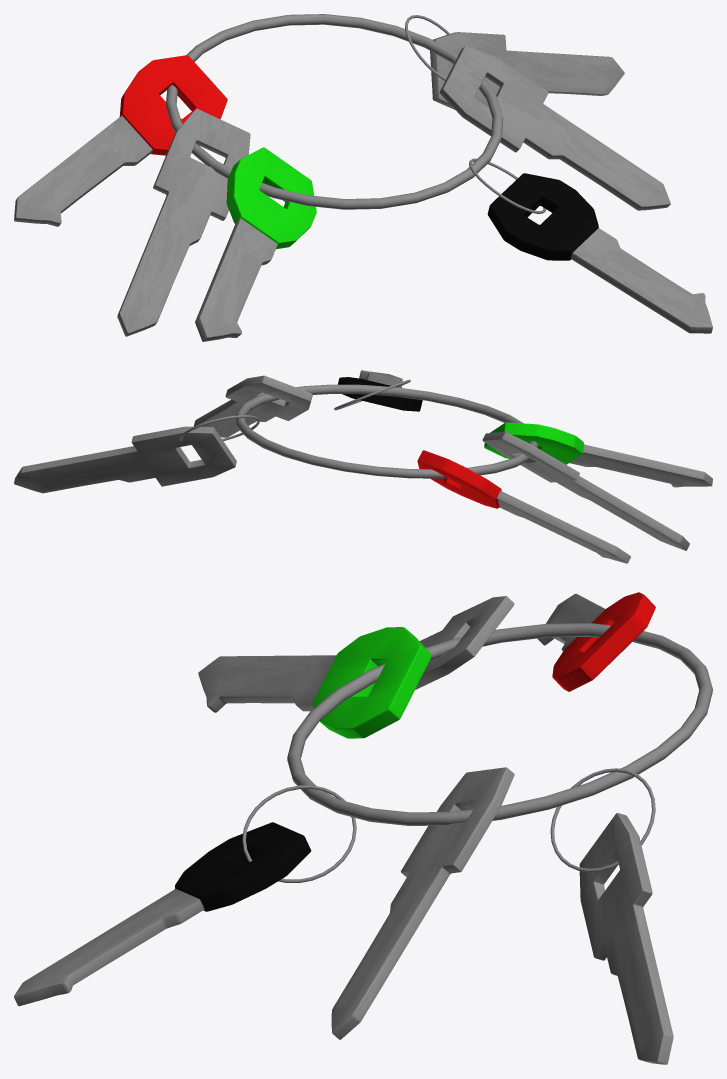
File: keys.fbx
The picture shows the model from 3 angles, top to bottom: view 1: azimuth 30°, elevation 25°; view 2: azimuth 150°, elevation 25°; view 3: azimuth 270°, elevation 25°; orthographic projection. The views are drawn at different scales.
Visible parts, largest first — view 1: ring binder; view 2: ring binder; view 3: ring binder.
Part boxes in pixels (bbox=[...]): ring binder: bbox=[14, 14, 712, 341]; ring binder: bbox=[14, 370, 712, 563]; ring binder: bbox=[14, 592, 712, 1064].
Bounding box in the file's own units: 58.82 × 14.77 × 43.11.
